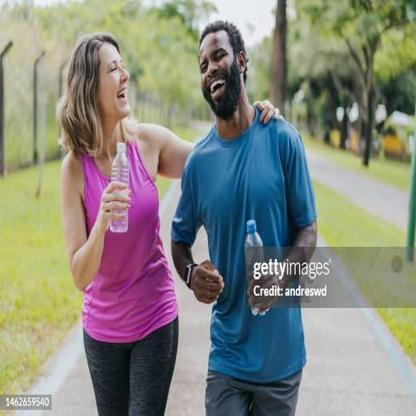person: (173, 16, 326, 416), (51, 32, 190, 416)
